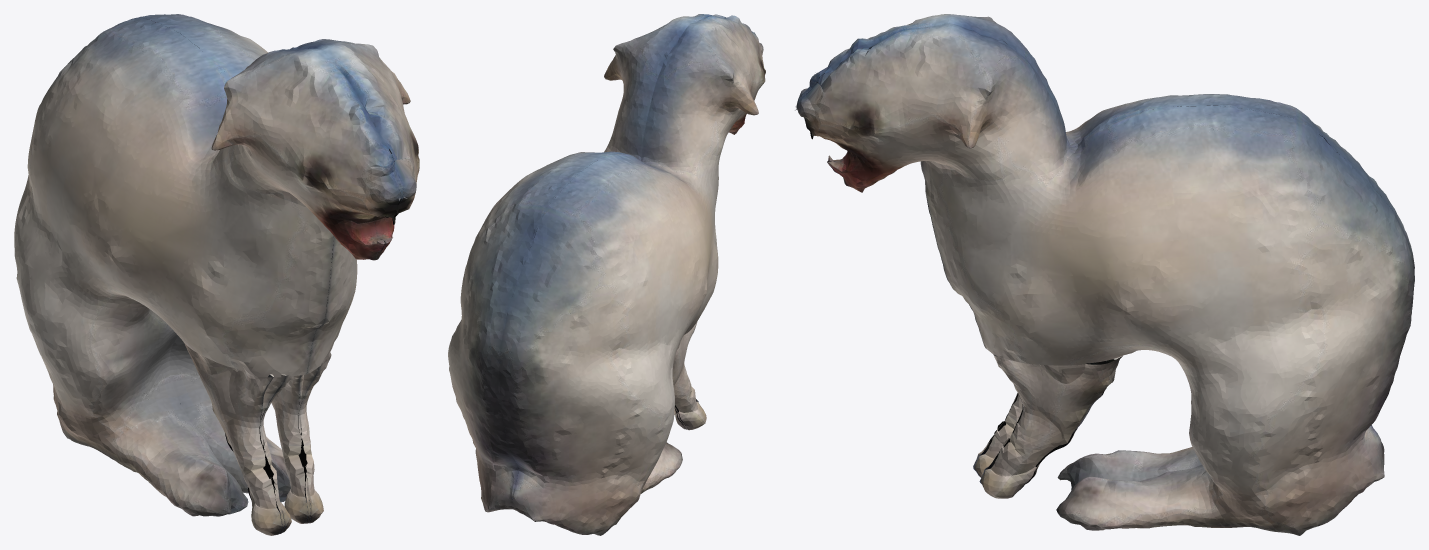
3 renders of one model, left to right at view 1: azimuth 30°, elevation 25°; view 2: azimuth 150°, elevation 25°; view 3: azimuth 270°, elevation 25°, orthographic. The views are drawn at different scales.
Visible parts, largest first — view 1: Mesh_0.002; view 2: Mesh_0.002; view 3: Mesh_0.002.
Part boxes in pixels (x1,y1,x2,y2): Mesh_0.002: [14, 14, 419, 535]; Mesh_0.002: [448, 14, 765, 535]; Mesh_0.002: [795, 14, 1414, 535].
Size of the model in its own units: 0.1376 by 0.2523 by 0.2935.
1 material, 1 textured.
